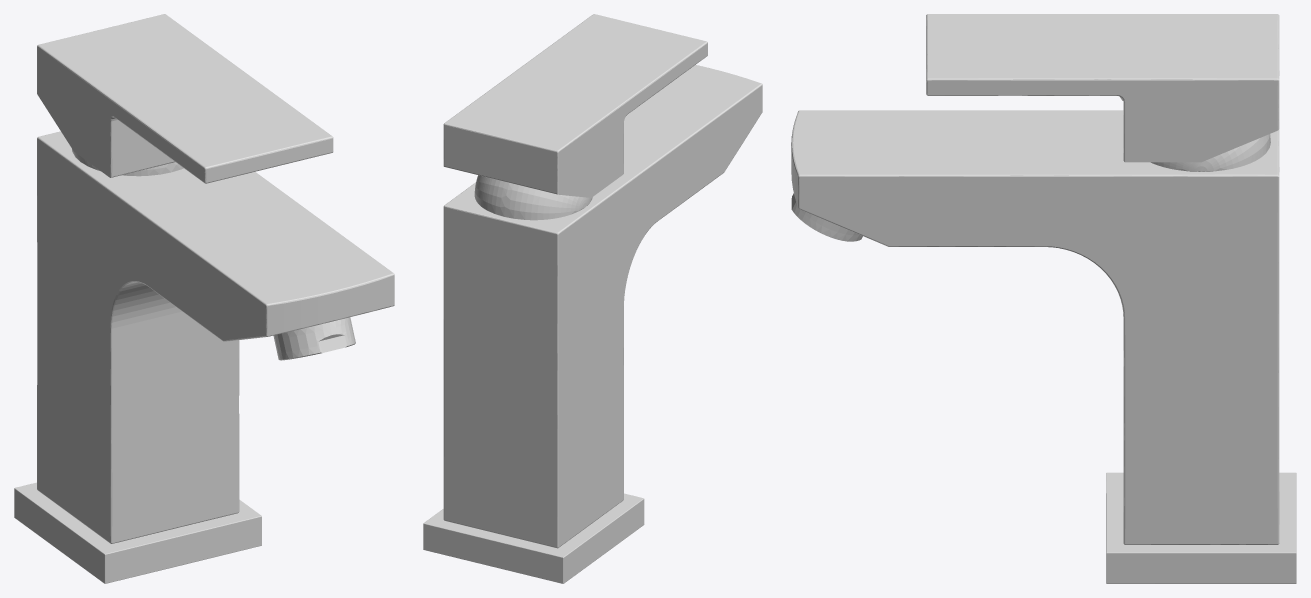
Rendered from AEC_49845.glb.
3 views of the same model, side by side, from view 1: azimuth 30°, elevation 25°; view 2: azimuth 150°, elevation 25°; view 3: azimuth 270°, elevation 25° (orthographic). The views are drawn at different scales.
Parts seen in each view (by area): view 1: 0; view 2: 0; view 3: 0.
Part boxes in pixels (x1,y1,x2,y2): 0: (14, 14, 394, 583); 0: (423, 14, 762, 583); 0: (791, 14, 1296, 583).
Bounding box in the file's own units: 0.055 × 0.1587 × 0.146.
1 material, 1 textured.
